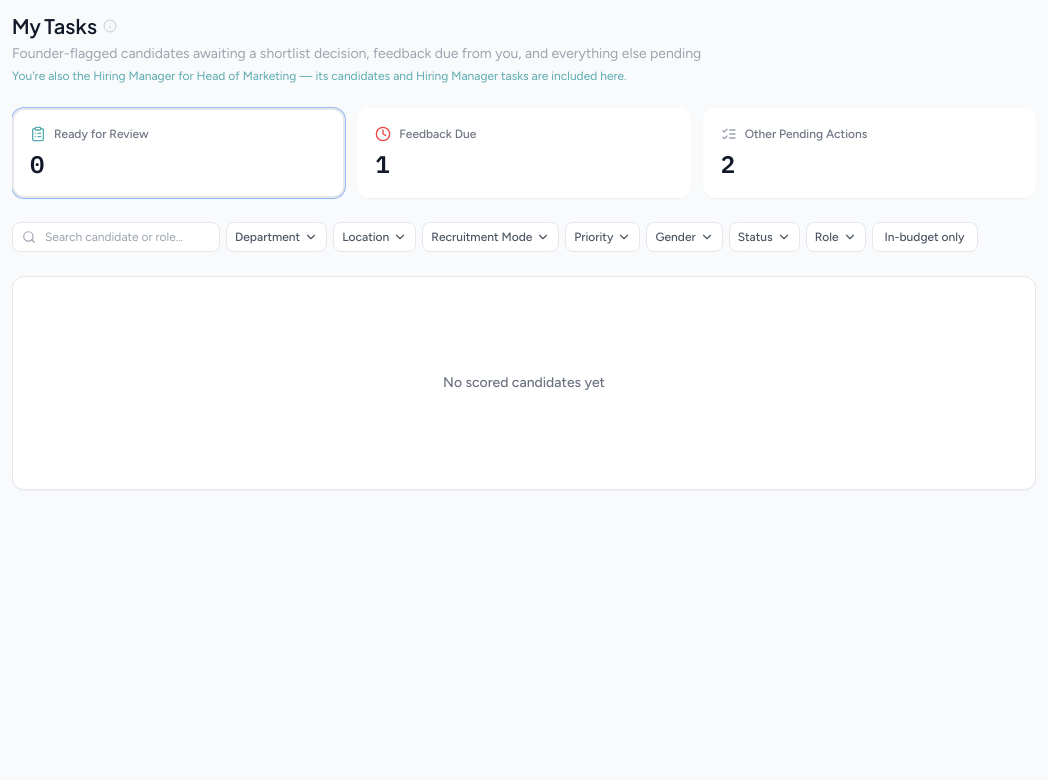
Test: My Tasks — a Leadership user who is also a role's Hiring Manager › counts her Hiring Manager items as actionable work (Other Pending Actions / Feedback Due), not as Leadership Alerts
This screenshot has width=1048, height=780.
Check: the button "Feedback Due 1" is shown, box [357,108,691,198]
Check: the button "Leadership Alerts" is not shown
Click the button "Other Pending Actions 2": [806, 134] box [703,108,1036,198]
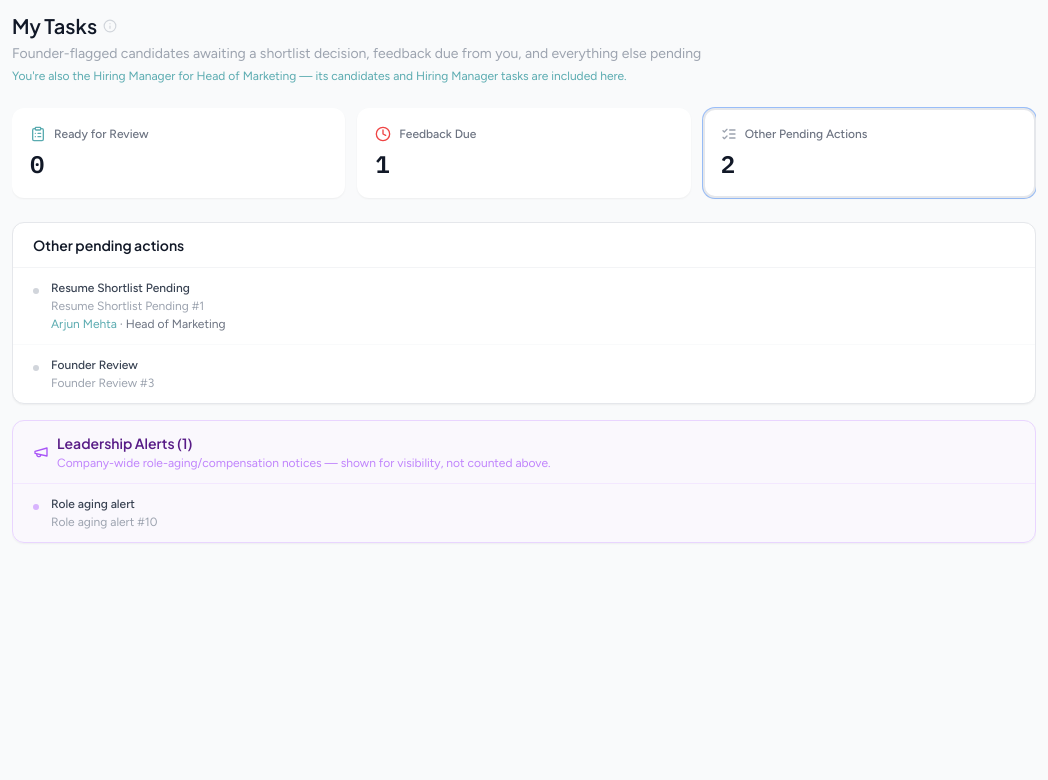
Check: the text "Resume Shortlist Pending" is shown, box [51,281,190,295]
Check: the text "Founder Review" is shown, box [51,358,138,372]
Check: the heading "Leadership Alerts (1)" is shown, box [57,434,192,452]
